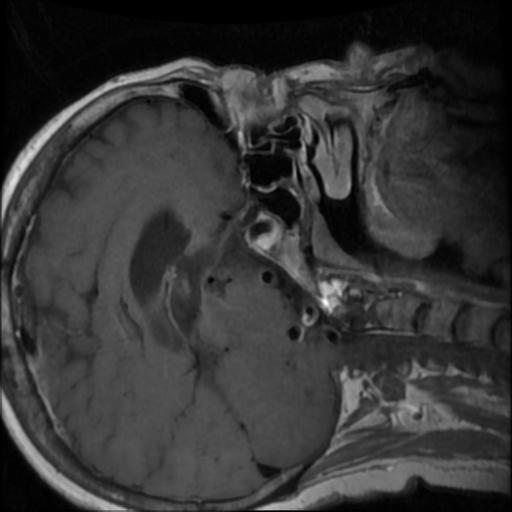pituitary tumour: (243, 210, 286, 251)
